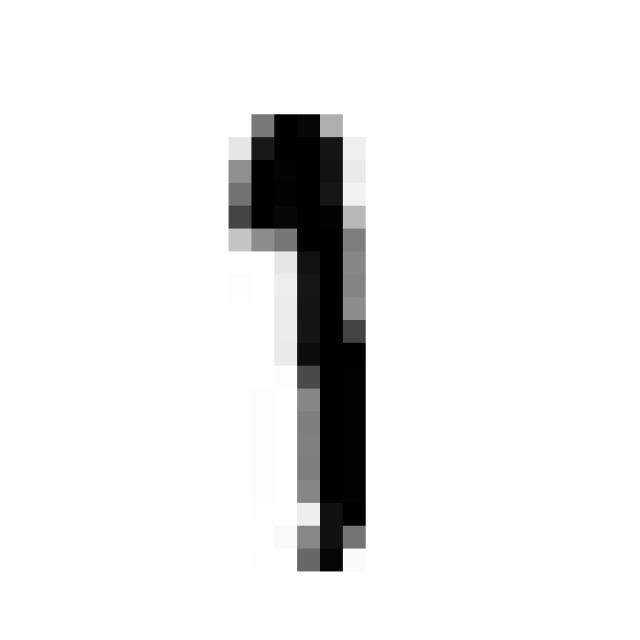1 -one-: (201, 82, 391, 585)
